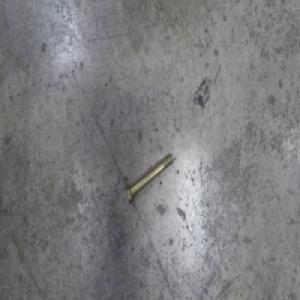Bolt: (124, 149, 174, 206)
